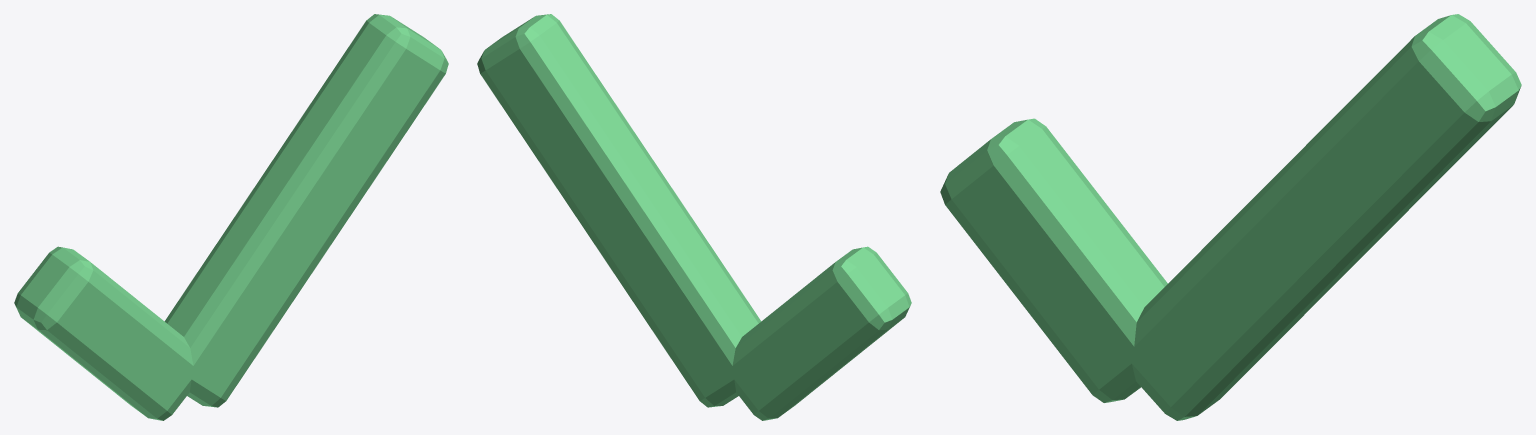
The model's file is ui_check.glb.
3 renders of one model, left to right at view 1: azimuth 30°, elevation 25°; view 2: azimuth 150°, elevation 25°; view 3: azimuth 330°, elevation 25°, orthographic. The views are drawn at different scales.
Parts seen in each view (by area): view 1: check_long, check_short; view 2: check_long, check_short; view 3: check_long, check_short.
Boxes of the visible parts, left/top/right/bottom form: check_long: left=164, top=14, right=448, bottom=407; check_short: left=14, top=246, right=198, bottom=420; check_long: left=477, top=14, right=761, bottom=407; check_short: left=727, top=246, right=911, bottom=420; check_long: left=1125, top=14, right=1521, bottom=420; check_short: left=940, top=118, right=1167, bottom=402.
Bounding box in the file's own units: 0.0556 × 0.0431 × 0.008.
